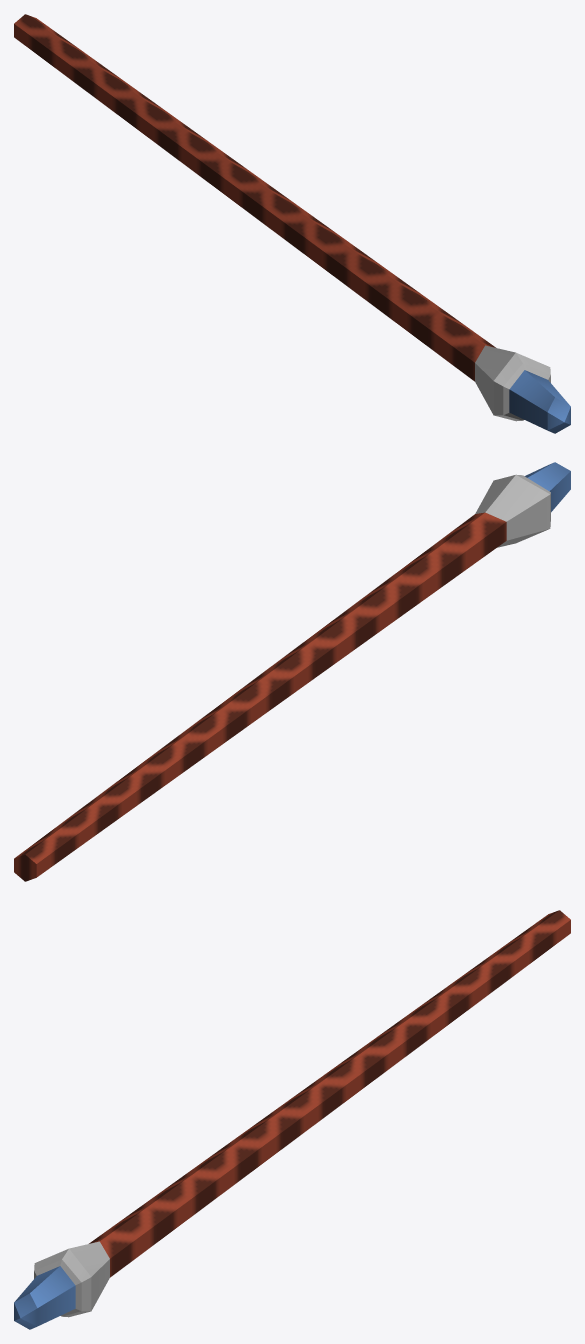
Rendered from StaffBasic_A.glb.
3 views of the same model, one above another, from view 1: azimuth 30°, elevation 25°; view 2: azimuth 150°, elevation 25°; view 3: azimuth 330°, elevation 25° (orthographic).
Parts seen in each view (by area): view 1: StaffBasic_A; view 2: StaffBasic_A; view 3: StaffBasic_A.
Boxes of the visible parts, x1,y1,x2,y2 form: StaffBasic_A: (14, 14, 570, 433); StaffBasic_A: (14, 462, 570, 881); StaffBasic_A: (14, 910, 570, 1329).
Bounding box in the file's own units: 0.1164 × 0.1344 × 1.91.
1 material, 1 textured.
